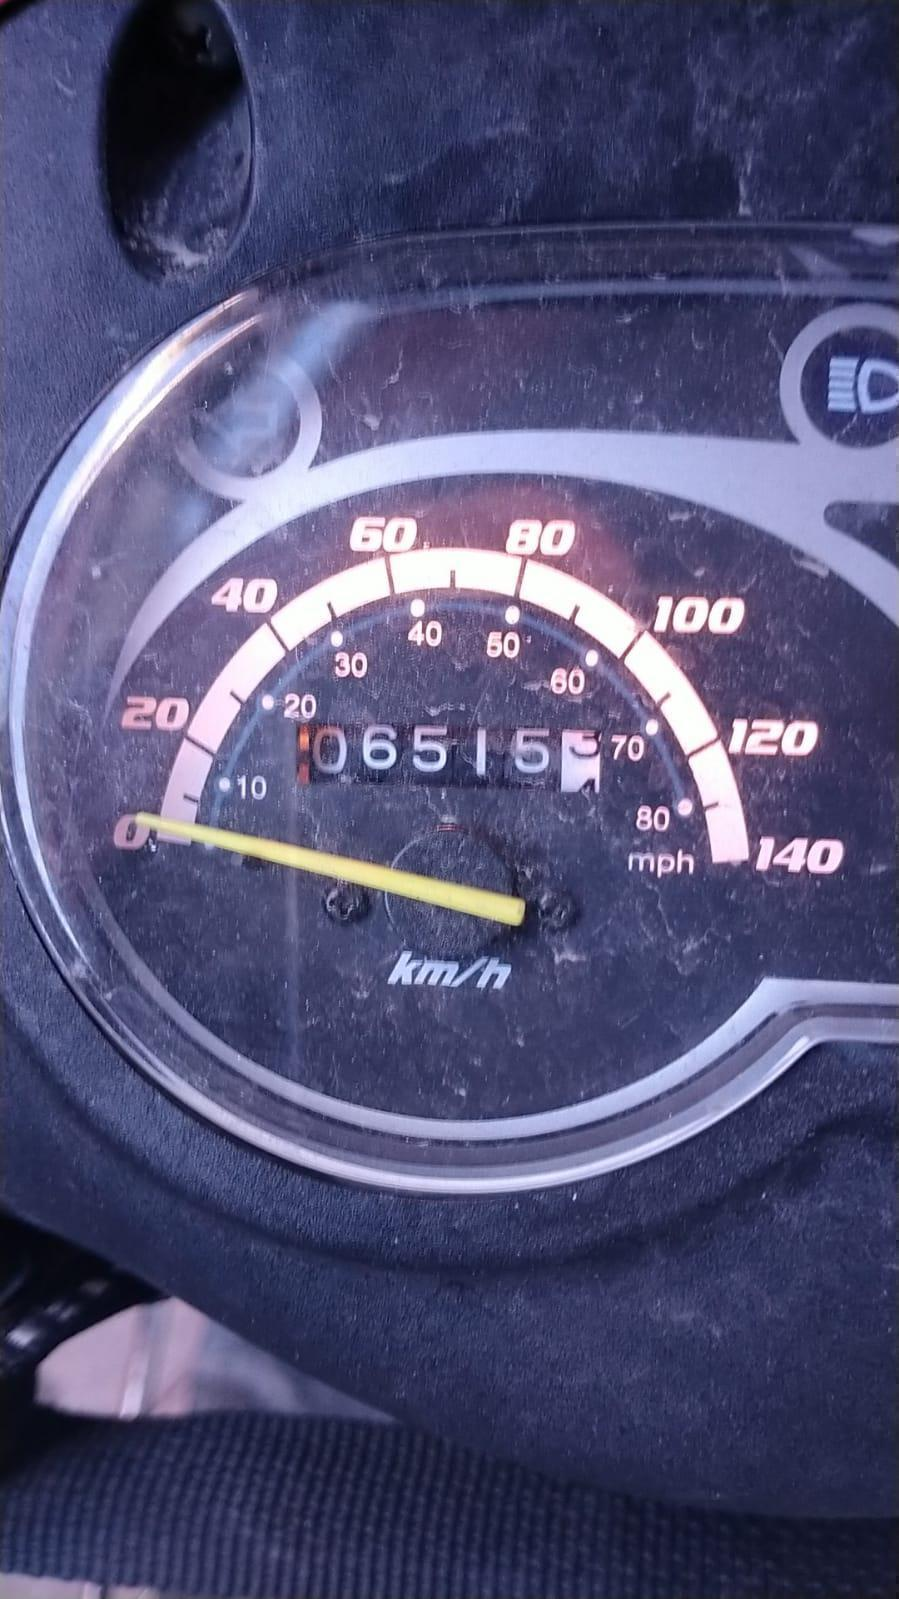0: (311, 724, 348, 779)
1: (472, 724, 494, 783)
3: (568, 722, 604, 762)
5: (411, 722, 452, 775), (514, 726, 552, 774)
6: (360, 720, 400, 770)
odometer: (291, 711, 617, 804)
